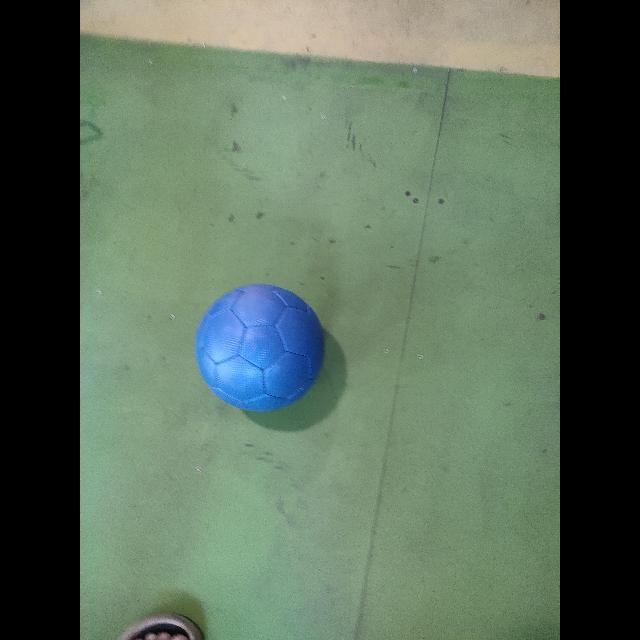B: (195, 284, 324, 411)
